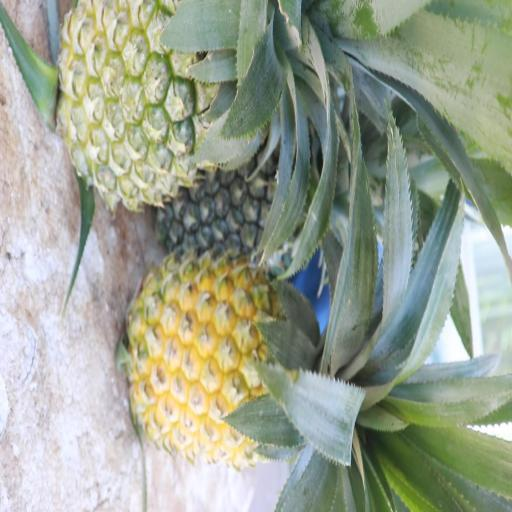------------------------------: (54, 0, 290, 204)
Pineapple - v8 v1: (124, 248, 358, 464)
